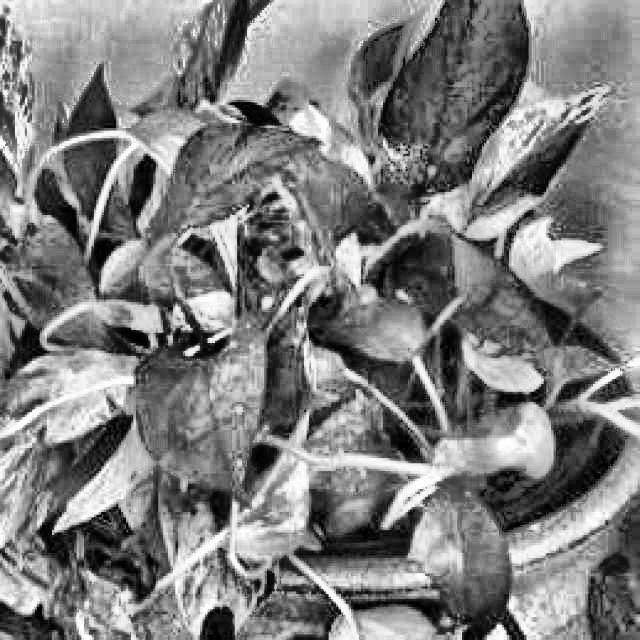plants: (0, 2, 638, 638), (423, 397, 562, 512), (158, 524, 282, 638), (89, 282, 208, 366)
